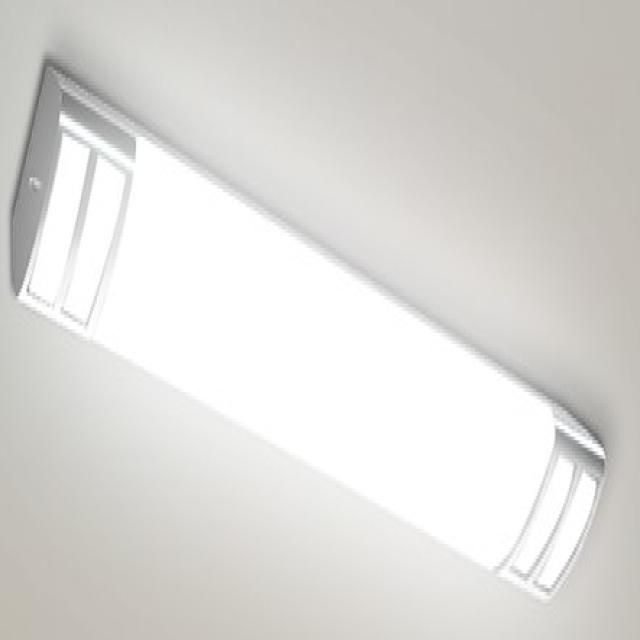light: (8, 55, 607, 601)
